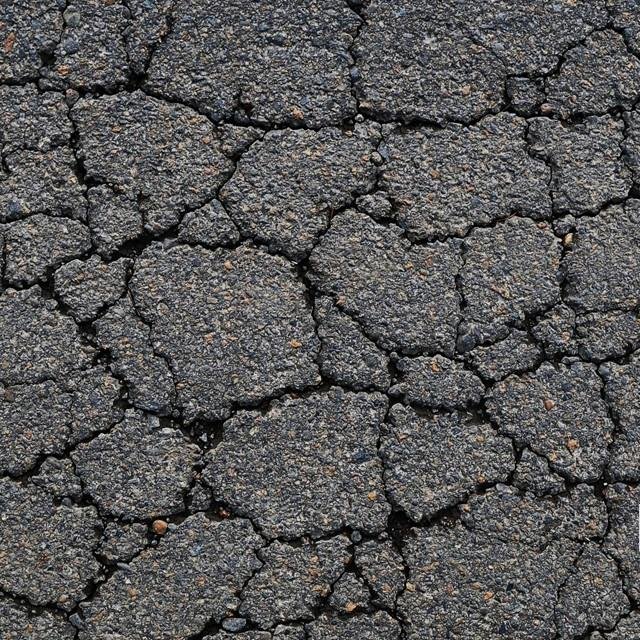retak_kulit_buaya: (0, 0, 590, 640), (0, 0, 640, 478)
